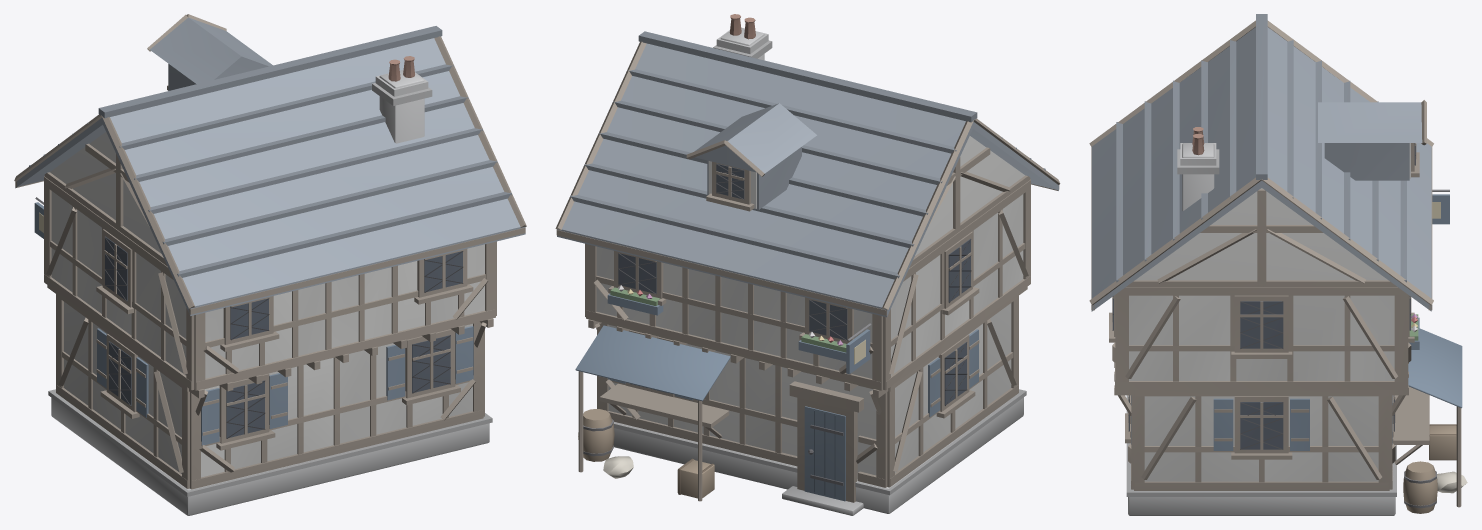
File: shop_brine.gltf
3 views of the same model, side by side, from view 1: azimuth 30°, elevation 25°; view 2: azimuth 150°, elevation 25°; view 3: azimuth 270°, elevation 25° (orthographic). The views are drawn at different scales.
Parts seen in each view (by area): view 1: Body; view 2: Body; view 3: Body.
Boxes of the visible parts, bbox=[...] form: Body: bbox=[14, 14, 526, 515]; Body: bbox=[555, 14, 1060, 515]; Body: bbox=[1089, 14, 1467, 515].
Bounding box in the file's own units: 8.37 × 8.76 × 8.34.
